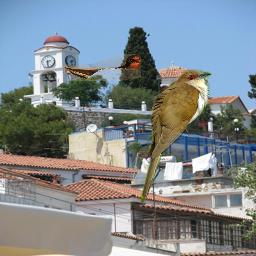Cuckoo: (139, 69, 212, 204)
Swallow: (65, 54, 141, 81)
